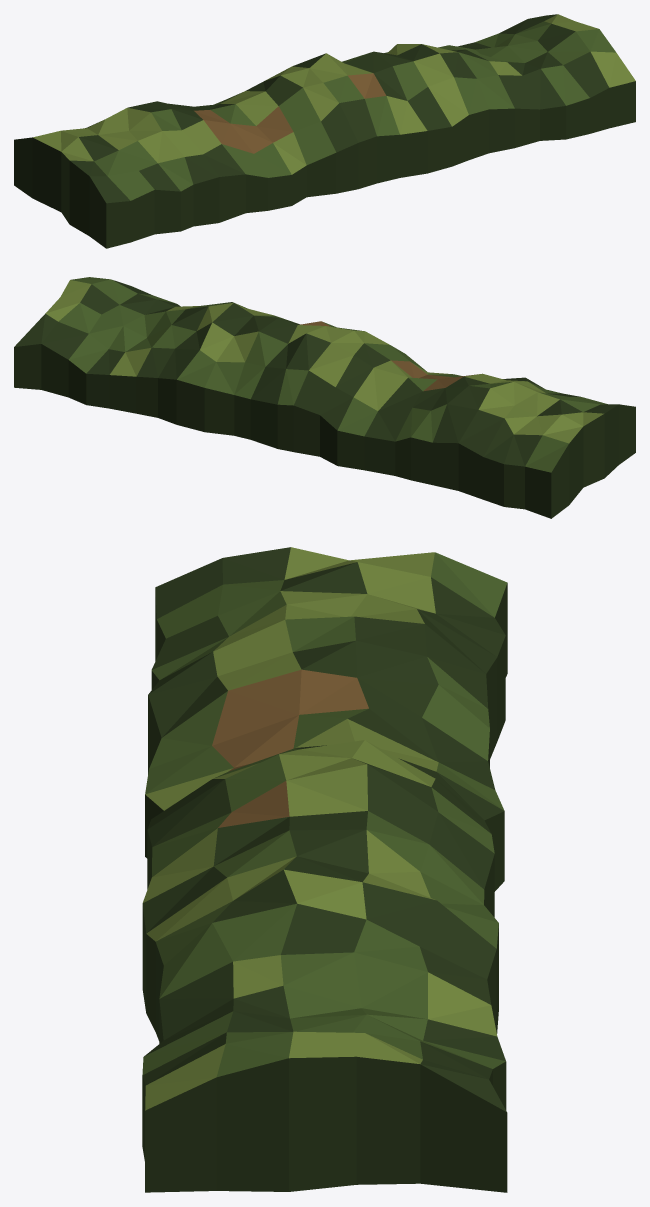
Rendered from Seto_LowPoly.glb.
3 views of the same model, one above another, from view 1: azimuth 30°, elevation 25°; view 2: azimuth 150°, elevation 25°; view 3: azimuth 270°, elevation 25° (orthographic). The views are drawn at different scales.
Parts seen in each view (by area): view 1: Seto_LowPoly; view 2: Seto_LowPoly; view 3: Seto_LowPoly.
Part boxes in pixels (<box>): Seto_LowPoly: <box>14,14,635,248</box>; Seto_LowPoly: <box>14,277,635,518</box>; Seto_LowPoly: <box>142,547,507,1192</box>.
Size of the model in its own units: 6.1 by 0.9898 by 1.82.
